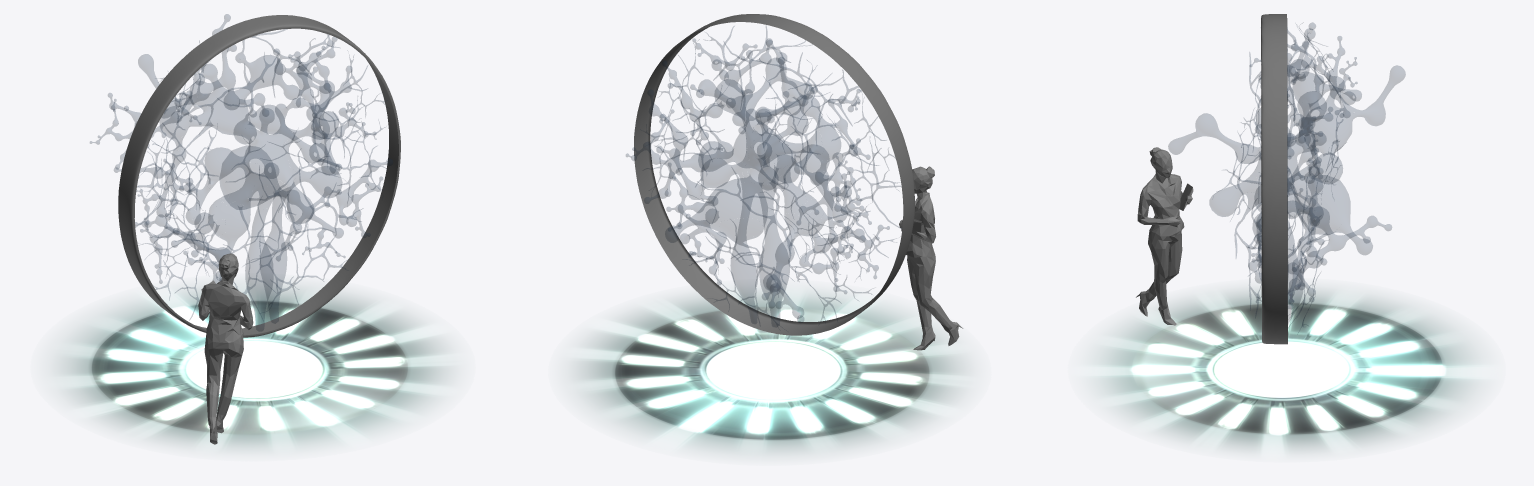
3 views of the same model, side by side, from view 1: azimuth 30°, elevation 25°; view 2: azimuth 150°, elevation 25°; view 3: azimuth 270°, elevation 25° (orthographic).
Visible parts, largest first — view 1: CML_podklad_03, CML_MOZEK_01, CML_OBRUC_02, zena; view 2: CML_podklad_03, CML_MOZEK_01, CML_OBRUC_02, zena; view 3: CML_podklad_03, CML_MOZEK_01, CML_OBRUC_02, zena.
Boxes of the visible parts, x1,y1,x2,y2 form: CML_podklad_03: (54,283,454,452); CML_MOZEK_01: (90,14,392,331); CML_OBRUC_02: (118,15,400,337); zena: (198,253,253,444); CML_podklad_03: (571,287,969,455); CML_MOZEK_01: (626,26,901,329); CML_OBRUC_02: (634,14,914,335); zena: (899,166,963,350); CML_podklad_03: (1088,288,1481,453); CML_MOZEK_01: (1168,22,1405,332); CML_OBRUC_02: (1261,14,1287,344); zena: (1136,147,1193,325).
Bounding box in the file's own units: 4.16 × 3.29 × 4.15.
Materials: 4 (1 with a texture image).
